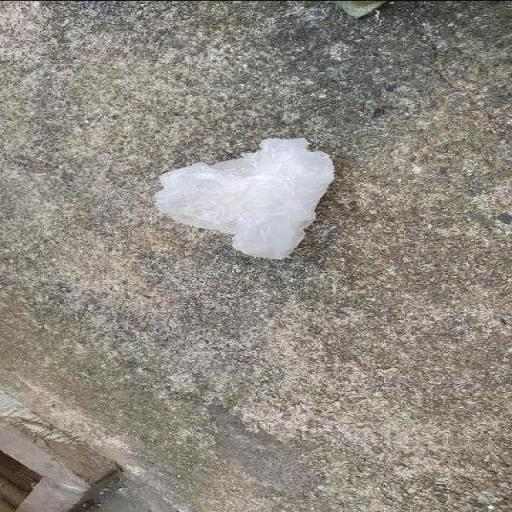plastic-bag: (152, 136, 340, 262)
